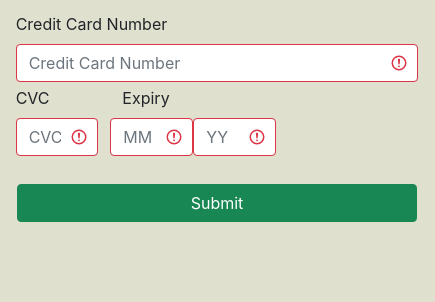
Test case: expiry year validation
The image size is (435, 302).
In the field with test id "expiryYY": (235, 137) [193,118,276,156], type "1"
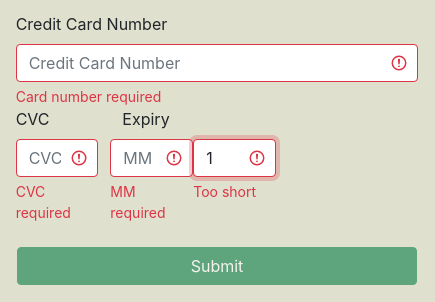
Expected: the text "Too short" is shown, [193,183,256,200]
In the field with test id "expiryYY": (235, 158) [193,139,276,177], type "0"
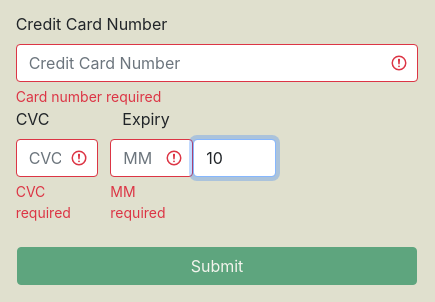
Expected: the text "Too short" is gone
